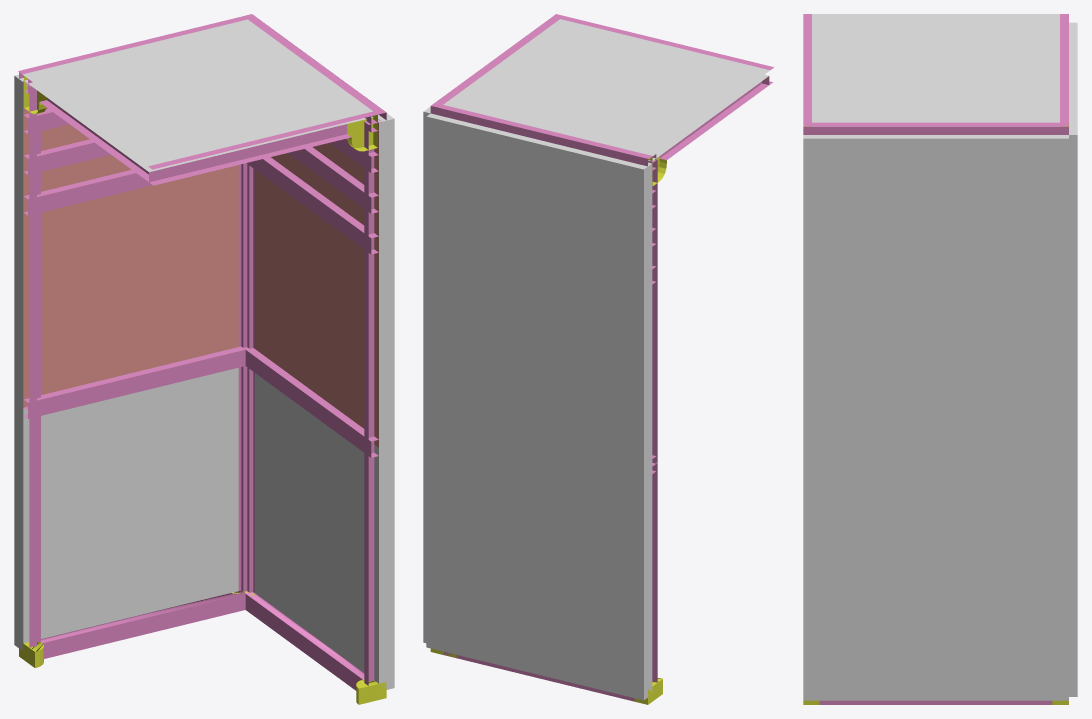
File: Wall Corner In.fbx
The picture shows the model from 3 angles, left to right: view 1: azimuth 30°, elevation 25°; view 2: azimuth 150°, elevation 25°; view 3: azimuth 270°, elevation 25°; orthographic projection. The views are drawn at different scales.
Parts seen in each view (by area): view 1: Cube.007; view 2: Cube.007; view 3: Cube.007.
Boxes of the visible parts, box(x1,y1,x2,y2) form: Cube.007: box(14, 14, 394, 704); Cube.007: box(423, 14, 773, 704); Cube.007: box(803, 14, 1077, 704).
Bounding box in the file's own units: 3.11 × 7.2 × 3.1.
